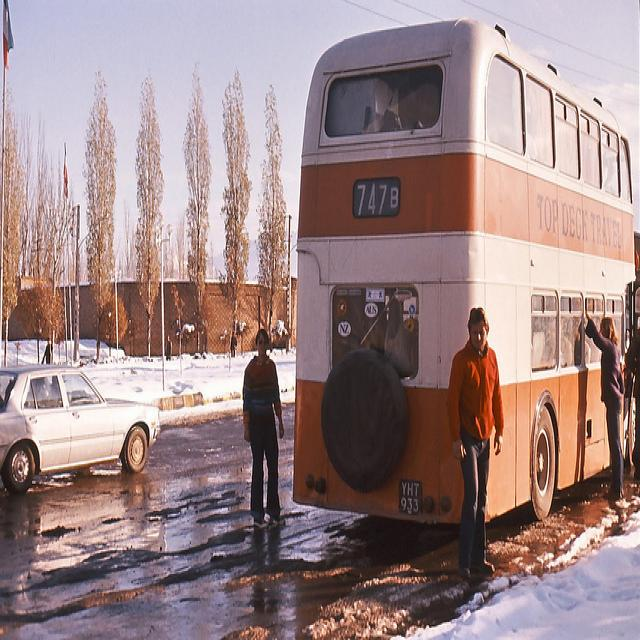Vehicle: (291, 16, 640, 526), (0, 364, 160, 496)
